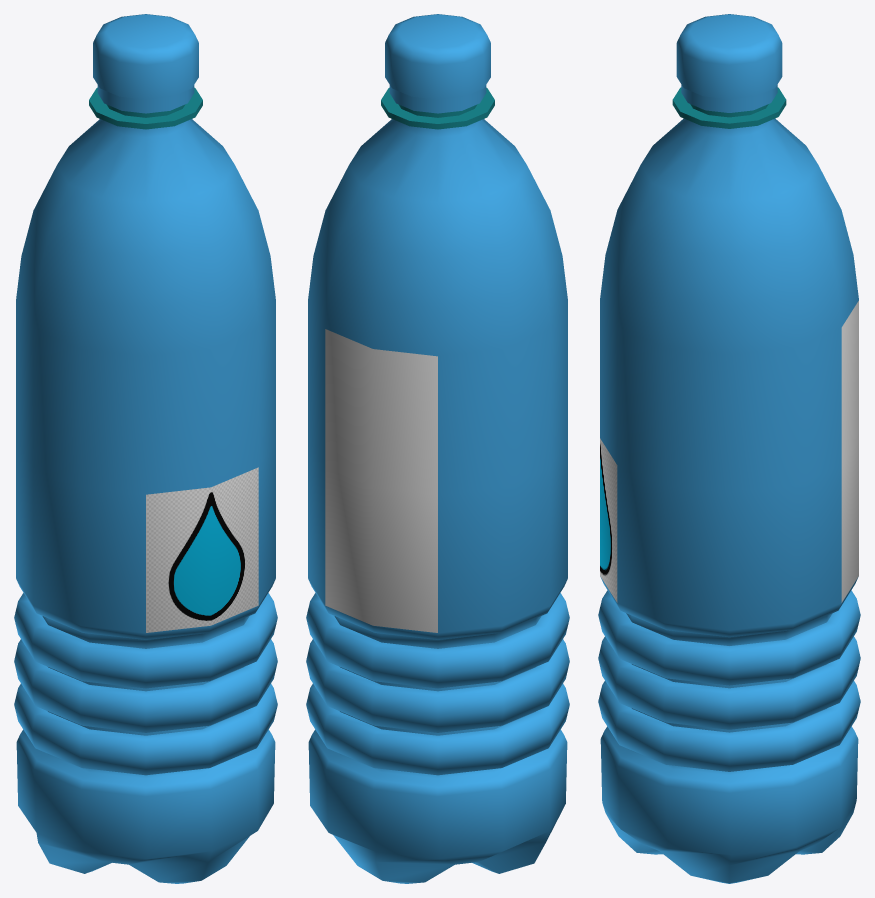
Rendered from Botella refresco grande.fbx.
The picture shows the model from 3 angles, left to right: view 1: azimuth 30°, elevation 25°; view 2: azimuth 150°, elevation 25°; view 3: azimuth 270°, elevation 25°; orthographic projection.
Visible parts, largest first — view 1: botella refresco grande; view 2: botella refresco grande; view 3: botella refresco grande.
Part boxes in pixels (x1,y1,x2,y2): botella refresco grande: (14,14,277,883); botella refresco grande: (306,14,569,883); botella refresco grande: (598,14,860,883).
Bounding box in the file's own units: 9.02 × 31.08 × 9.02.
Materials: 3 (1 with a texture image).
